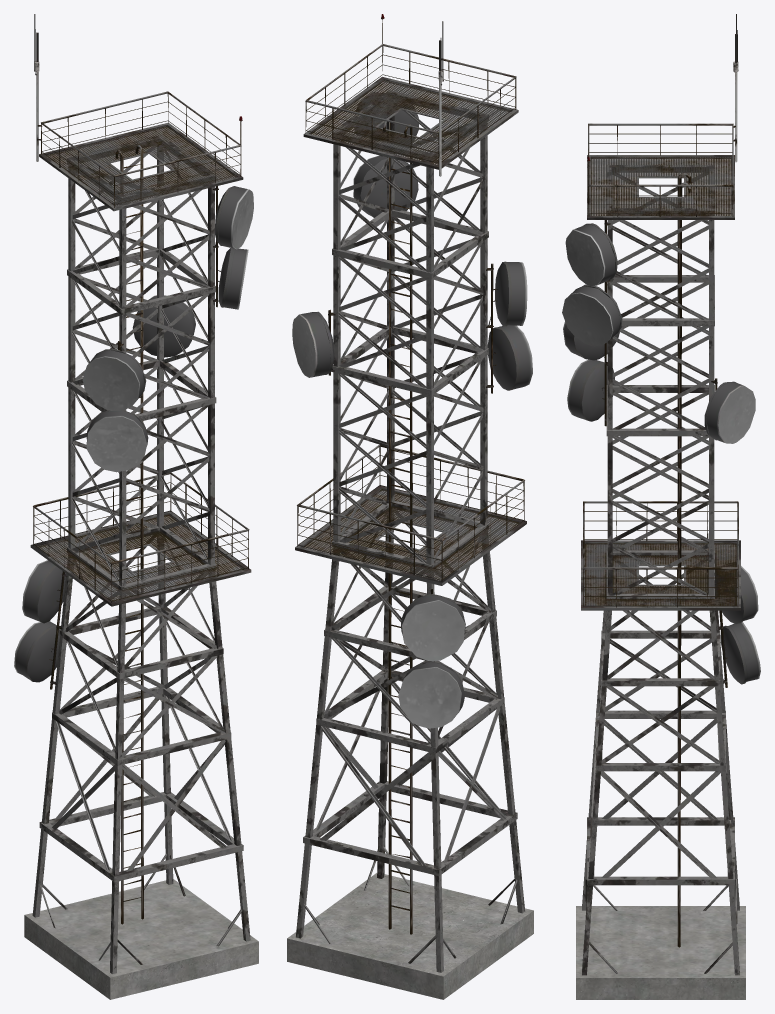
Rendered from tower-parsa.glb.
3 renders of one model, left to right at view 1: azimuth 30°, elevation 25°; view 2: azimuth 150°, elevation 25°; view 3: azimuth 270°, elevation 25°, orthographic. The views are drawn at different scales.
Visible parts, largest first — view 1: defaultMaterial (×2); view 2: defaultMaterial (×2); view 3: defaultMaterial (×2).
Part boxes in pixels (<box>): defaultMaterial (×2): <box>14,14,258,999</box>; defaultMaterial (×2): <box>287,14,533,999</box>; defaultMaterial (×2): <box>562,14,760,999</box>.
Size of the model in its own units: 322 by 1665 by 327.
2 materials, 2 textured.
